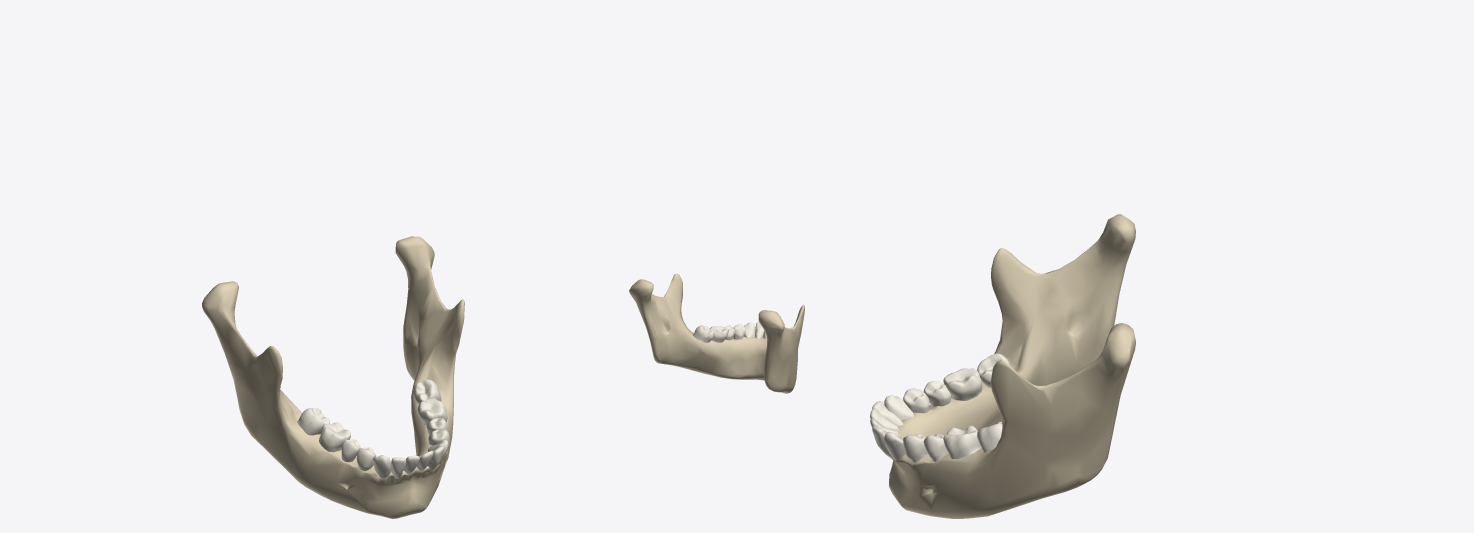
The model's file is mandible.glb.
3 views of the same model, side by side, from view 1: azimuth 30°, elevation 25°; view 2: azimuth 150°, elevation 25°; view 3: azimuth 270°, elevation 25° (orthographic). The views are drawn at different scales.
Visible parts, largest first — view 1: mandible; view 2: mandible; view 3: mandible.
Boxes of the visible parts, x1,y1,x2,y2 form: mandible: (202,236,464,518); mandible: (629,273,804,393); mandible: (870,214,1135,518).
Size of the model in its own units: 0.151 by 0.2146 by 0.2088.
